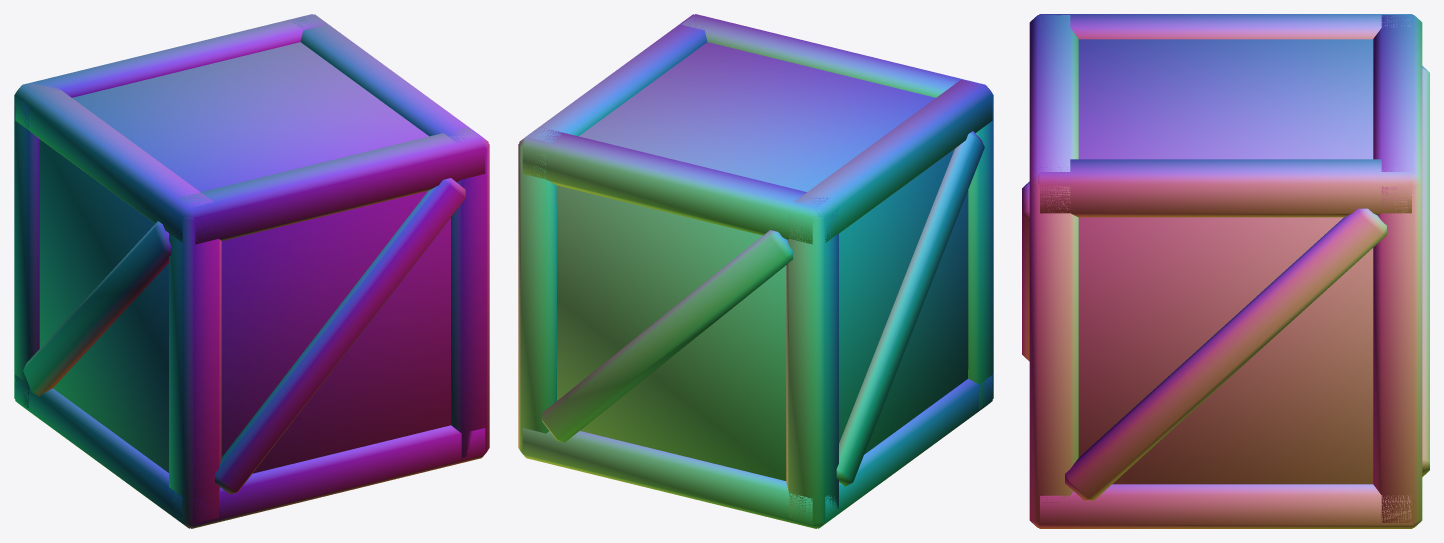
File: SM_Prop_Camp_Crate.fbx
3 views of the same model, side by side, from view 1: azimuth 30°, elevation 25°; view 2: azimuth 150°, elevation 25°; view 3: azimuth 270°, elevation 25° (orthographic). The views are drawn at different scales.
Visible parts, largest first — view 1: SM_Prop_Camp_Crate; view 2: SM_Prop_Camp_Crate; view 3: SM_Prop_Camp_Crate.
Boxes of the visible parts, left/top/right/bottom form: SM_Prop_Camp_Crate: left=14, top=14, right=489, bottom=528; SM_Prop_Camp_Crate: left=518, top=14, right=993, bottom=528; SM_Prop_Camp_Crate: left=1022, top=14, right=1429, bottom=528.
Size of the model in its own units: 0.798 by 0.769 by 0.798.
